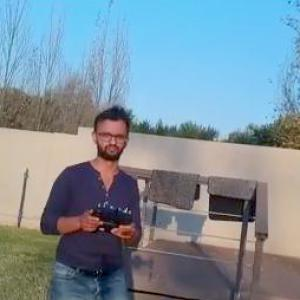follow: (33, 102, 145, 298)
